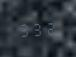three: (18, 21, 30, 37), (32, 20, 44, 36)
two: (45, 19, 57, 35)
